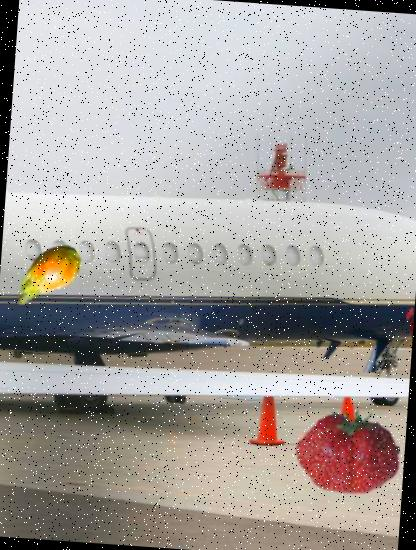Cactus: (4, 233, 87, 316)
Strawberry: (290, 396, 402, 508)
